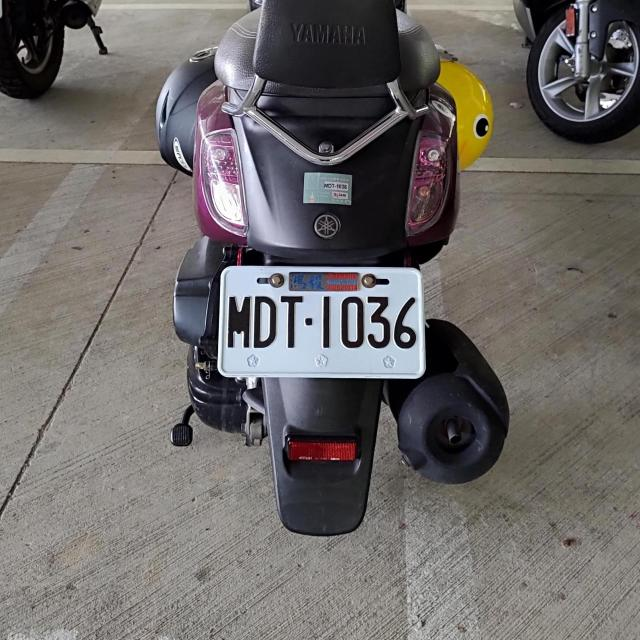W: (219, 265, 423, 378)
